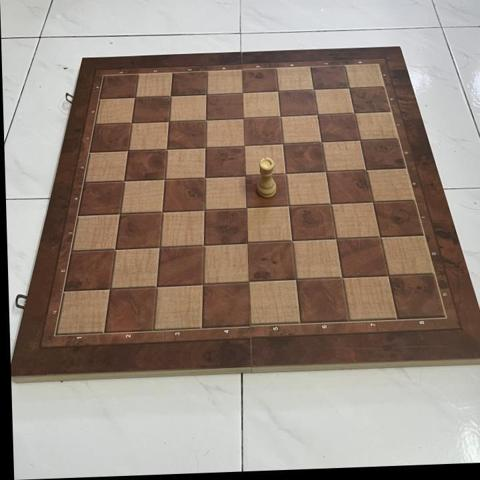xcorner: (345, 105, 362, 122), (234, 110, 251, 127), (149, 278, 166, 295), (340, 80, 356, 97), (308, 107, 325, 123), (271, 109, 288, 125), (123, 115, 139, 132), (313, 134, 329, 151), (158, 141, 175, 157), (357, 162, 374, 178), (197, 169, 213, 186), (156, 171, 173, 187), (280, 198, 297, 214), (238, 200, 255, 216), (196, 202, 213, 218), (108, 241, 124, 258), (305, 82, 321, 98), (269, 84, 285, 100), (233, 85, 249, 101), (198, 87, 214, 103), (162, 88, 178, 104), (126, 90, 142, 106), (197, 112, 213, 128), (160, 114, 176, 130), (351, 133, 367, 149), (274, 136, 290, 152), (236, 138, 252, 154), (197, 140, 213, 156), (120, 143, 136, 159), (317, 164, 333, 180), (277, 166, 293, 182), (237, 168, 253, 184), (116, 173, 132, 189), (364, 194, 380, 210), (322, 196, 338, 212), (154, 204, 170, 220), (112, 206, 128, 222), (372, 229, 388, 245), (328, 231, 344, 247), (284, 233, 300, 249), (240, 235, 256, 251), (196, 237, 212, 253), (152, 239, 168, 255), (380, 268, 396, 284), (334, 270, 350, 286), (288, 272, 304, 288), (242, 274, 258, 290), (196, 276, 212, 292), (103, 281, 119, 297)
